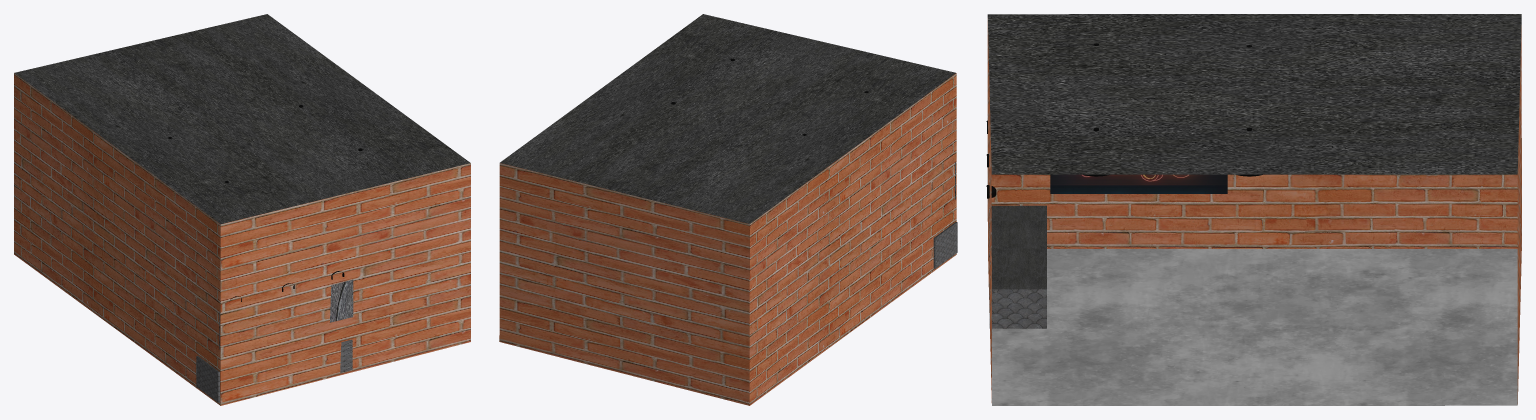
Rendered from GarageLight.fbx.
3 renders of one model, left to right at view 1: azimuth 30°, elevation 25°; view 2: azimuth 150°, elevation 25°; view 3: azimuth 270°, elevation 25°, orthographic. The views are drawn at different scales.
Visible parts, largest first — view 1: Cubo, Cube.003, Cube.004; view 2: Cubo, Cube.003; view 3: Cubo, Cube.003, Cube.005.
Part boxes in pixels (<box>): Cubo: <box>14,14,470,405</box>; Cube.003: <box>196,339,352,402</box>; Cube.004: <box>219,279,353,349</box>; Cubo: <box>499,14,956,405</box>; Cube.003: <box>933,222,957,268</box>; Cubo: <box>987,14,1521,405</box>; Cube.003: <box>989,205,1046,328</box>; Cube.005: <box>1050,174,1227,193</box>.
Bounding box in the file's own units: 897 × 615 × 1271.
Materials: 7 (6 with a texture image).
